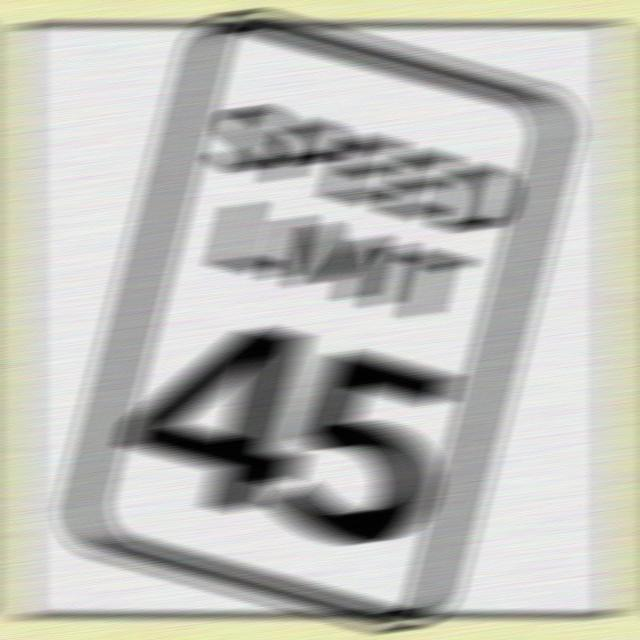speedLimit45: (69, 26, 596, 616)
